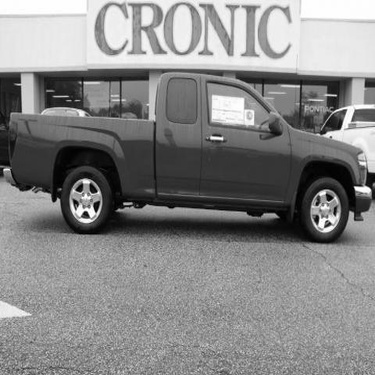car: (2, 66, 370, 246), (312, 95, 372, 198), (30, 94, 99, 140), (109, 100, 145, 129)
